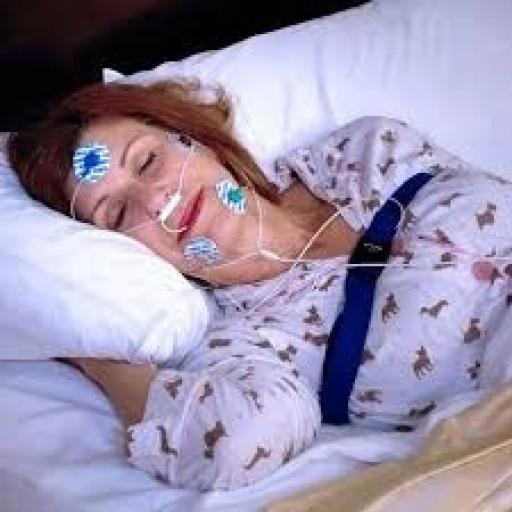sleeping: (4, 71, 510, 496)
